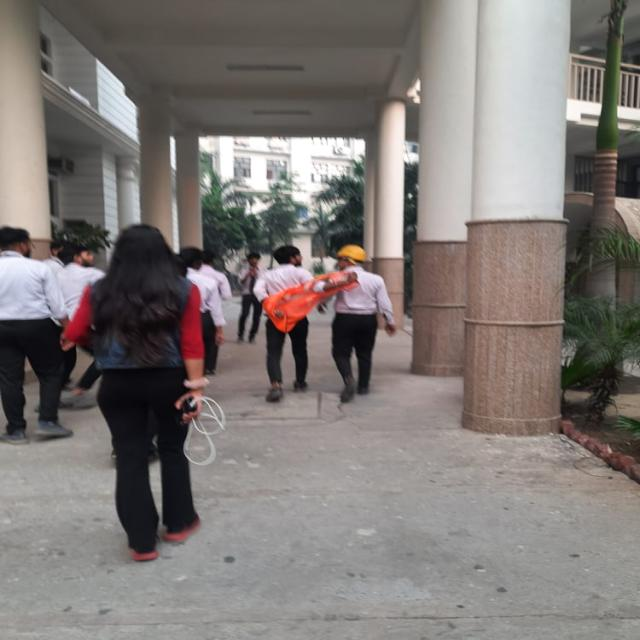no jacket: (323, 245, 398, 408)
unsafe: (72, 224, 224, 546), (1, 225, 74, 450), (250, 243, 327, 404)
